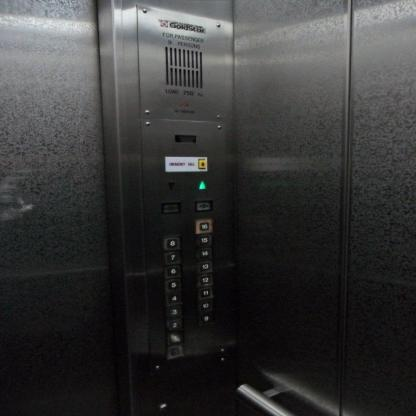1: (166, 330, 181, 344)
10: (198, 298, 212, 310)
11: (198, 286, 212, 299)
12: (197, 272, 212, 286)
13: (197, 260, 212, 272)
14: (195, 246, 213, 260)
15: (196, 234, 212, 245)
16: (194, 219, 212, 234)
2: (166, 317, 181, 330)
3: (166, 305, 182, 317)
4: (165, 291, 183, 306)
5: (164, 278, 182, 292)
6: (164, 264, 180, 278)
7: (164, 250, 180, 264)
8: (164, 236, 180, 250)
9: (198, 311, 213, 326)
alarm: (198, 158, 206, 170)
blur: (166, 343, 182, 359), (162, 200, 180, 214)
down: (166, 180, 177, 191)
keyhole: (155, 400, 172, 414)
open: (195, 200, 213, 212)
up: (197, 178, 208, 190)
